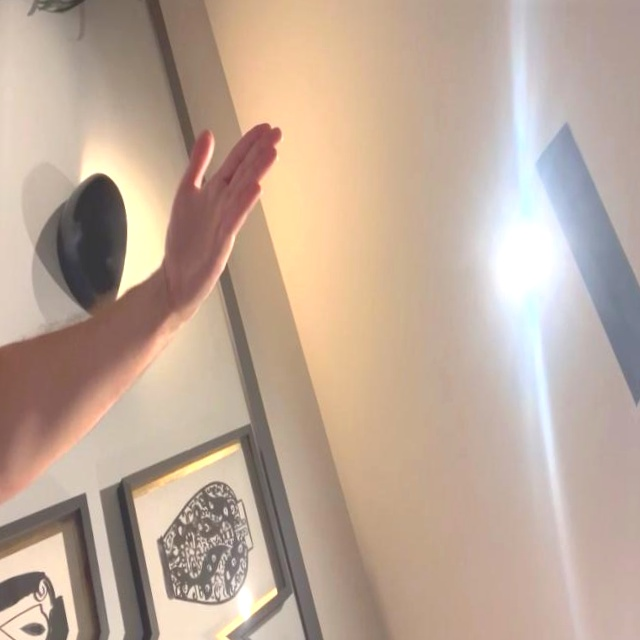Paper: (158, 114, 286, 321)
